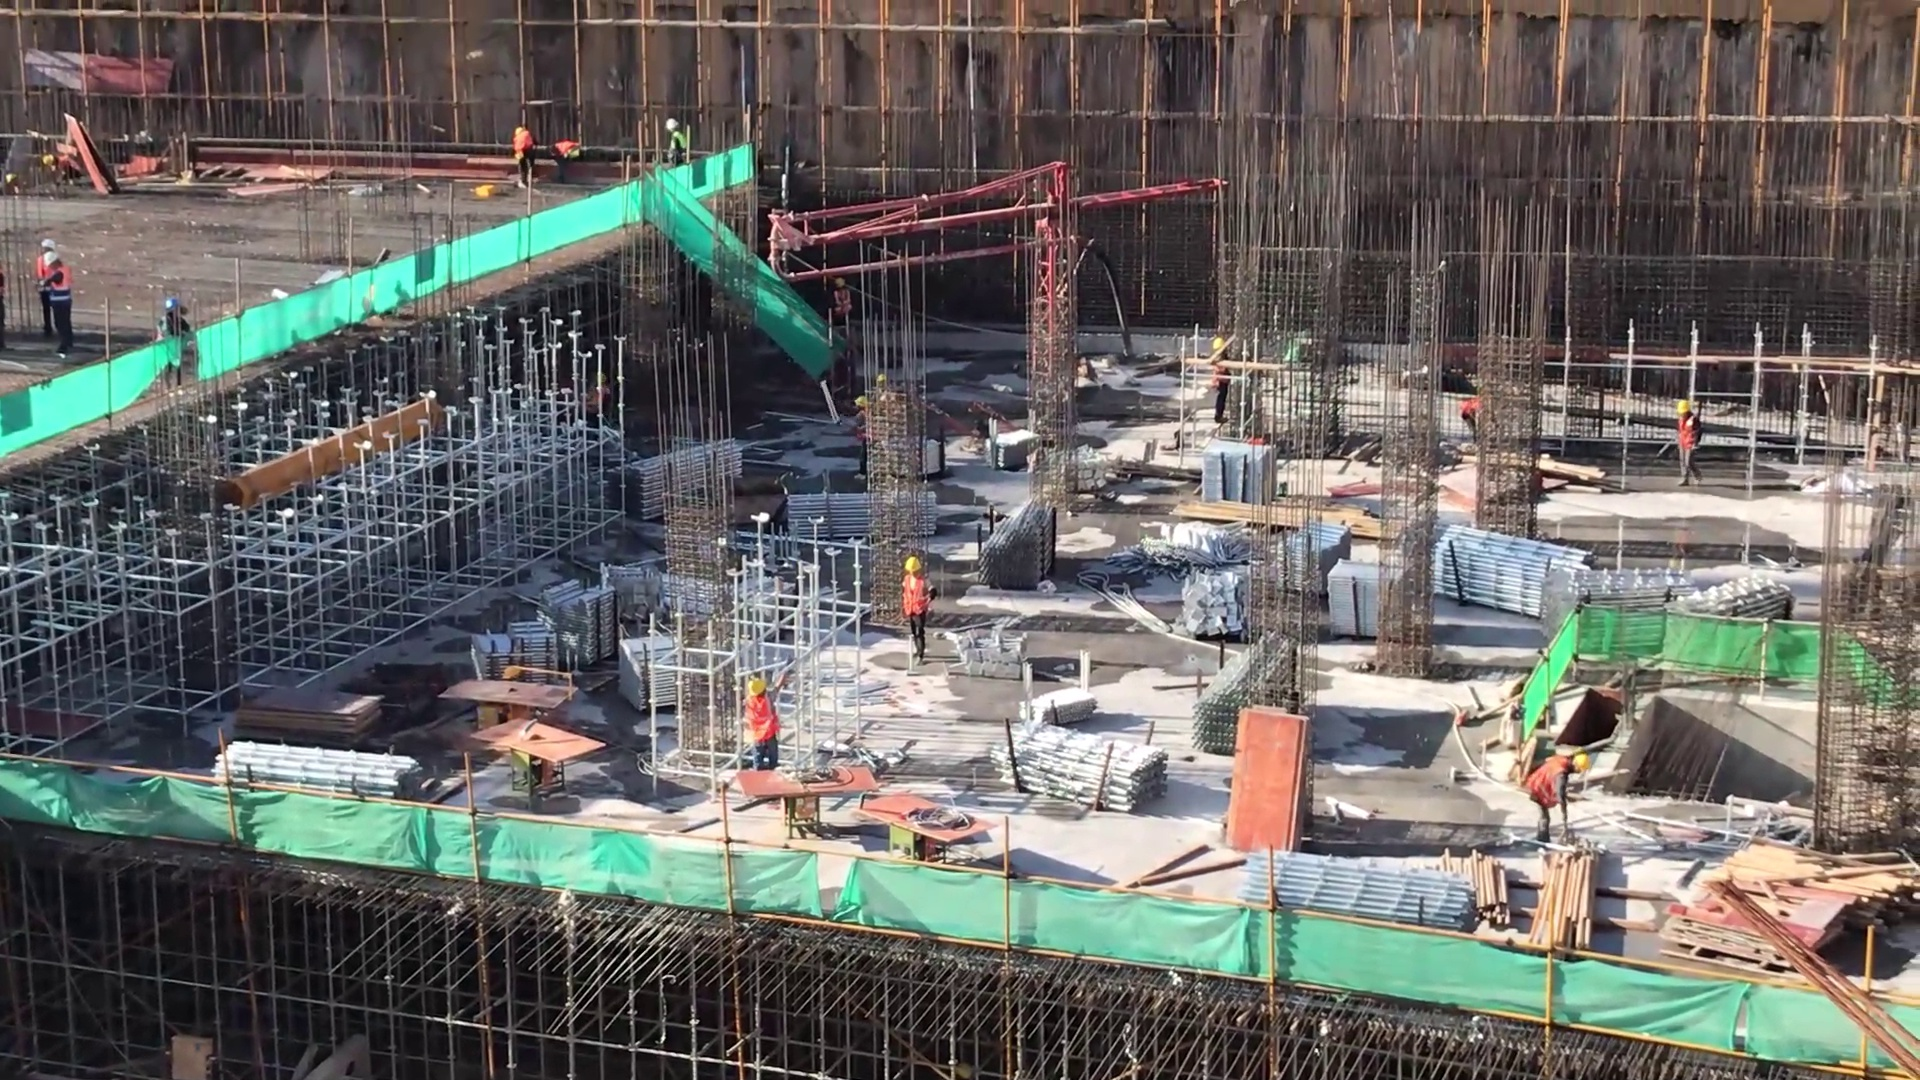board: (1222, 699, 1316, 852), (1656, 884, 1855, 948), (233, 690, 388, 749)
cutter: (467, 713, 612, 809), (733, 750, 888, 839), (863, 777, 1005, 870), (440, 670, 582, 744)
helmet: (160, 293, 191, 320), (743, 675, 772, 702), (1569, 752, 1592, 783), (902, 554, 928, 580), (1205, 333, 1235, 352), (1674, 398, 1697, 421), (42, 248, 61, 271), (828, 276, 851, 294), (660, 118, 683, 134), (40, 239, 56, 256)
person: (1525, 748, 1599, 854), (744, 668, 788, 787), (1663, 395, 1707, 501), (158, 286, 196, 397), (899, 546, 930, 674), (41, 245, 71, 371), (501, 118, 547, 197), (1201, 331, 1236, 430), (660, 107, 693, 191), (550, 126, 586, 197), (854, 394, 876, 487), (830, 272, 855, 345)
scaffold: (1237, 841, 1480, 942), (1429, 518, 1596, 635), (215, 742, 423, 821), (1662, 567, 1794, 691), (1540, 569, 1708, 662), (992, 721, 1174, 806), (1185, 633, 1301, 755), (608, 435, 753, 518), (976, 491, 1065, 602), (786, 483, 941, 537), (614, 633, 707, 718), (471, 619, 567, 697), (534, 583, 624, 667), (1276, 519, 1352, 603)
vest: (1523, 752, 1572, 820), (746, 695, 784, 746), (904, 573, 929, 617), (1677, 415, 1698, 454), (50, 269, 70, 306), (834, 291, 853, 318), (512, 129, 534, 152), (669, 130, 686, 156)
